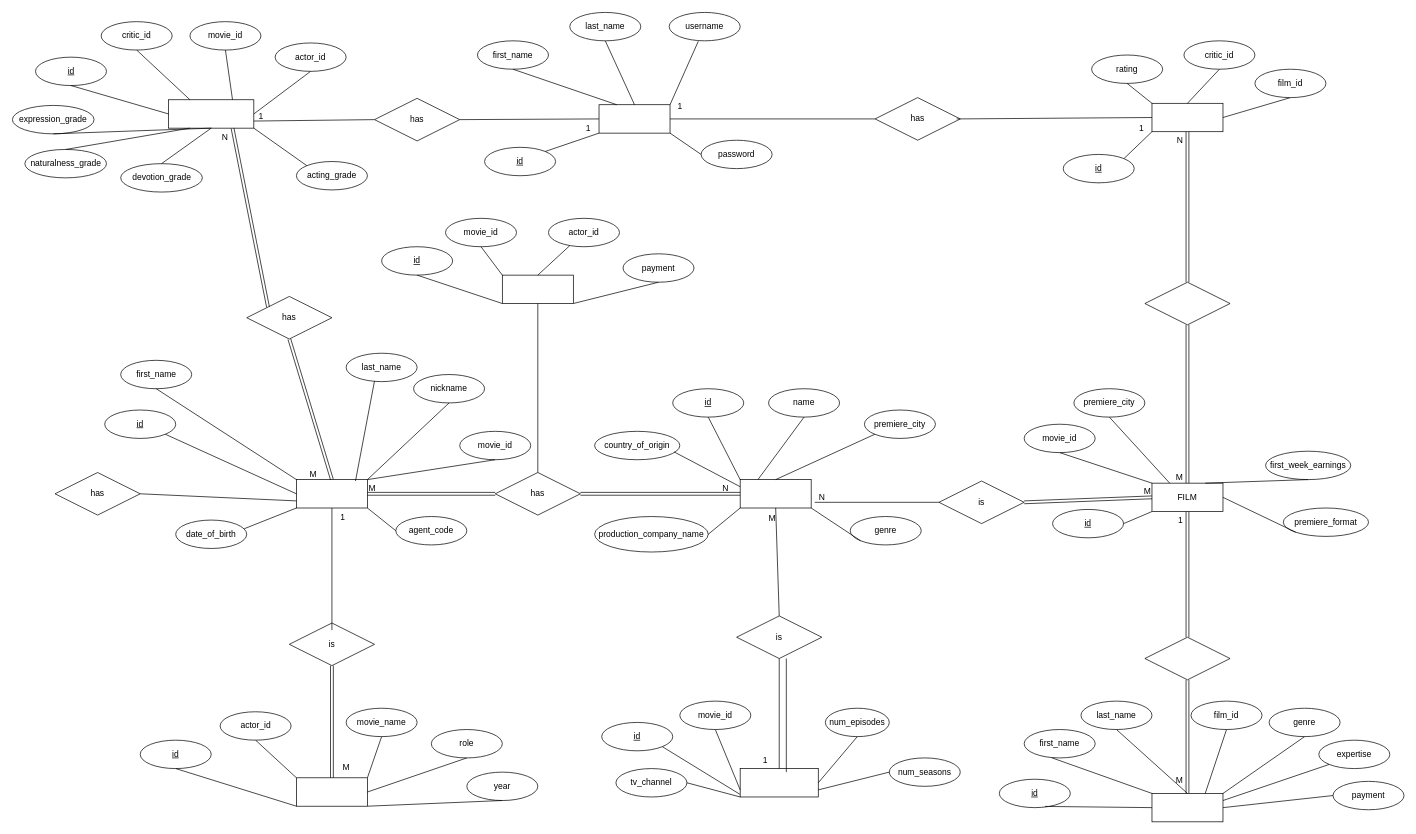
This 1416x834 diagram has some shape labels left out. Here are the shapes that lost their labels. From the top down, the box of each, then its label:
(168, 99, 254, 128): ACTOR_CRITIQUE
(598, 104, 670, 133): CRITIC
(1151, 103, 1223, 132): FILM_CRITIC
(502, 274, 573, 304): MOVIE_ACTOR
(1144, 282, 1230, 325): criticized
(296, 479, 367, 508): ACTOR
(739, 479, 811, 508): MOVIE
(1144, 637, 1230, 680): directed
(296, 777, 367, 806): OSCAR_WINNER
(739, 768, 818, 797): TV_SERIES
(1151, 793, 1223, 822): DIRECTOR
